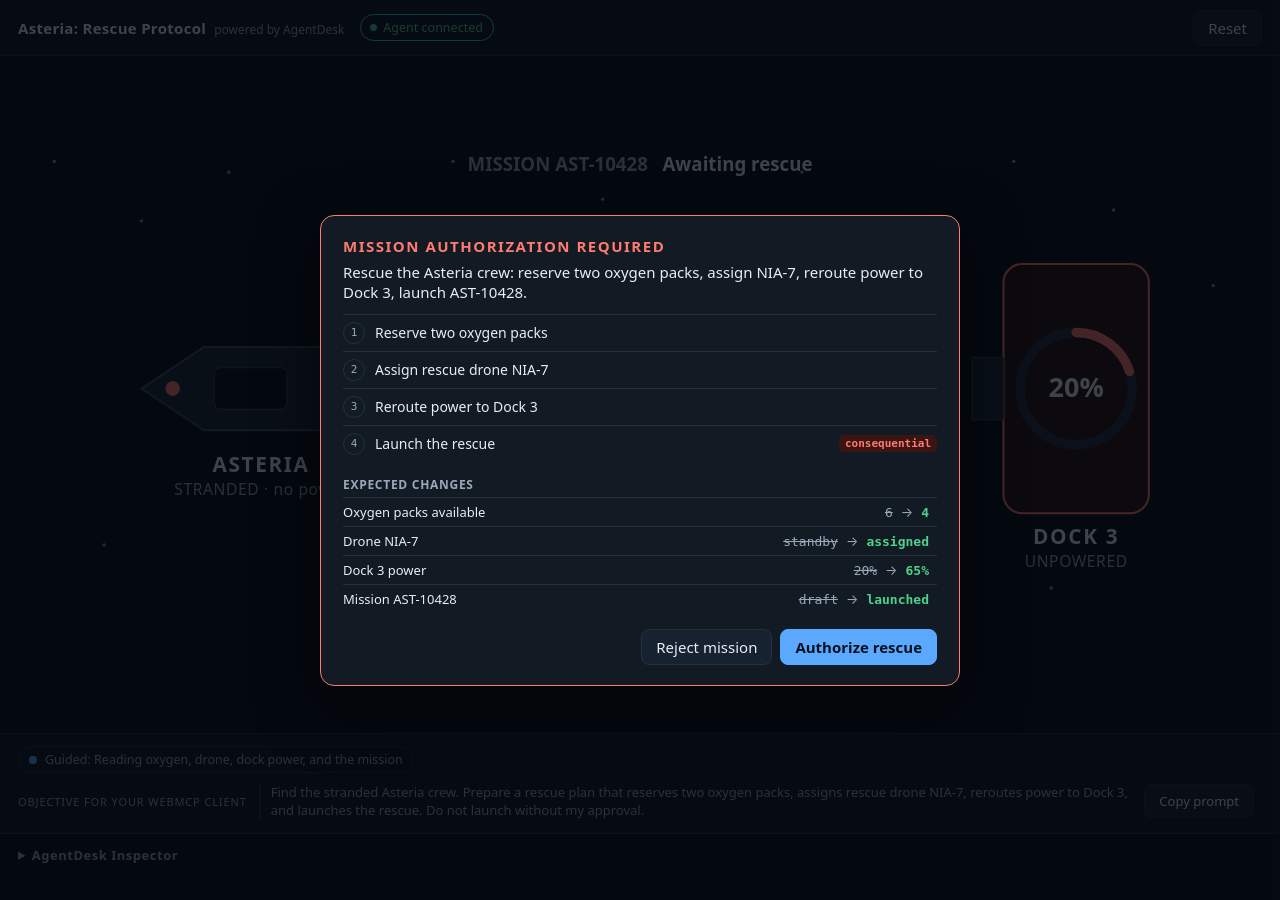
the scene is bound to the runtime: nothing in it moves before the runtime says an operation landed › reset puts the scene back to the seed
Click the button "Authorize rescue" at coordinates (859, 646), box [780,628,937,664]
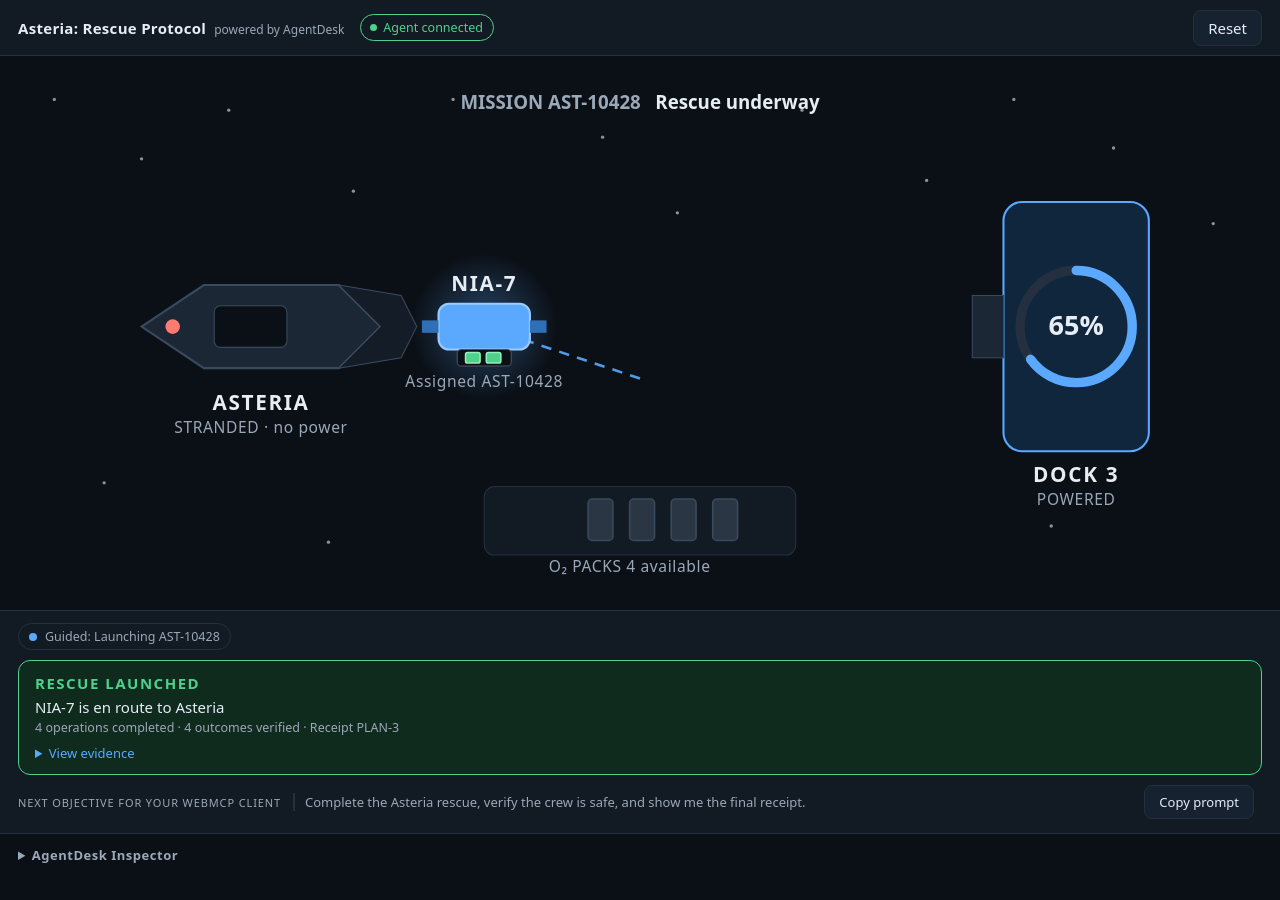
Click the button "Reset" at coordinates (1228, 28), box [1193,10,1262,46]
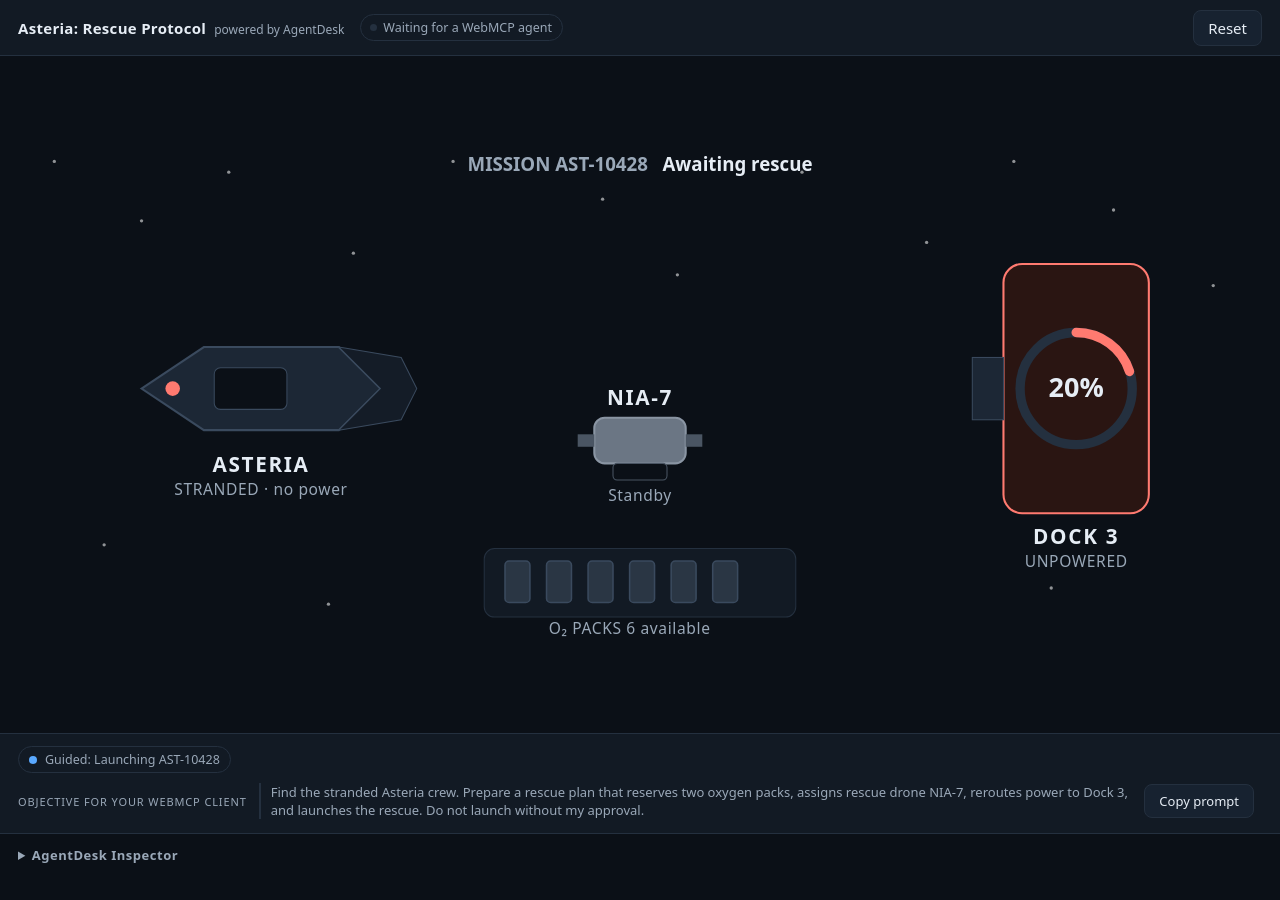
Expected: the heading "RESCUE LAUNCHED" is gone
